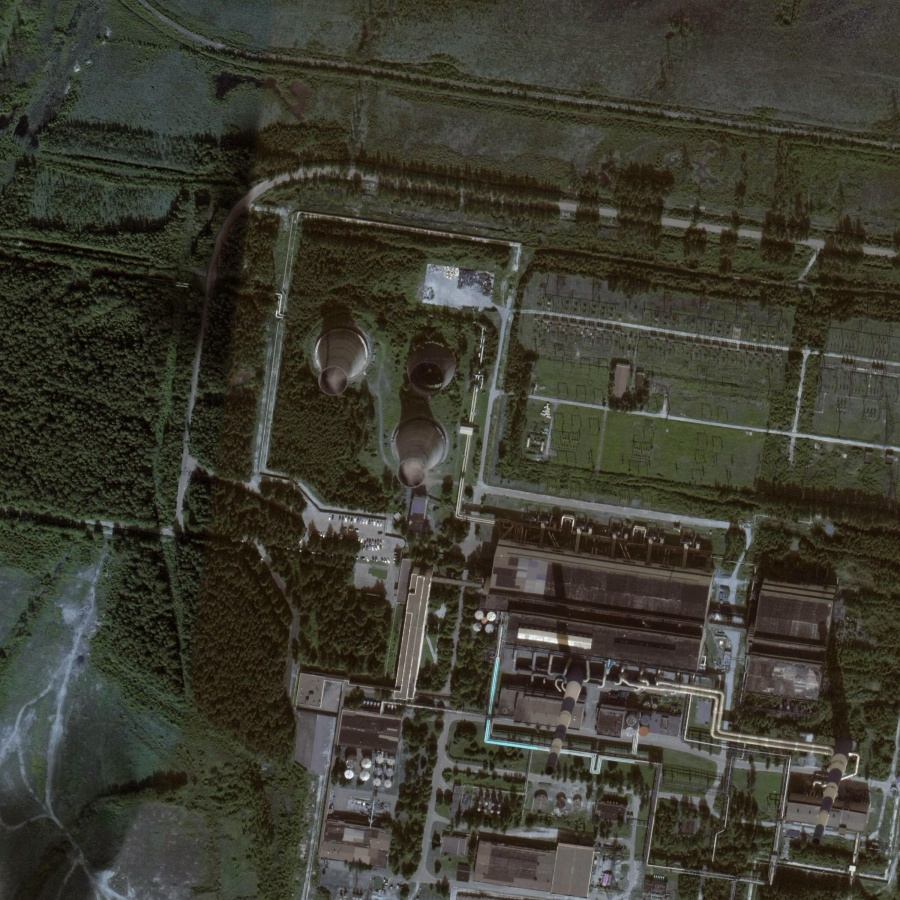PowerPlant: (498, 542, 856, 862), (287, 264, 486, 510)
